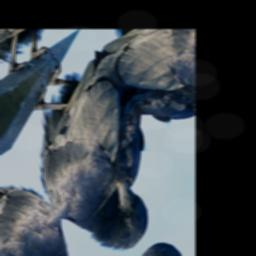Crow: (0, 30, 192, 256)
